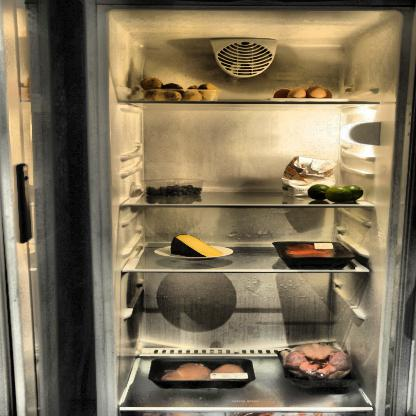beef: (275, 242, 351, 262)
blueberries: (144, 182, 211, 200)
cheese: (172, 233, 228, 259)
chicken: (156, 356, 254, 384), (278, 344, 354, 379)
eggs: (271, 85, 345, 102)
lime: (305, 183, 368, 204)
potato: (140, 73, 218, 103)
